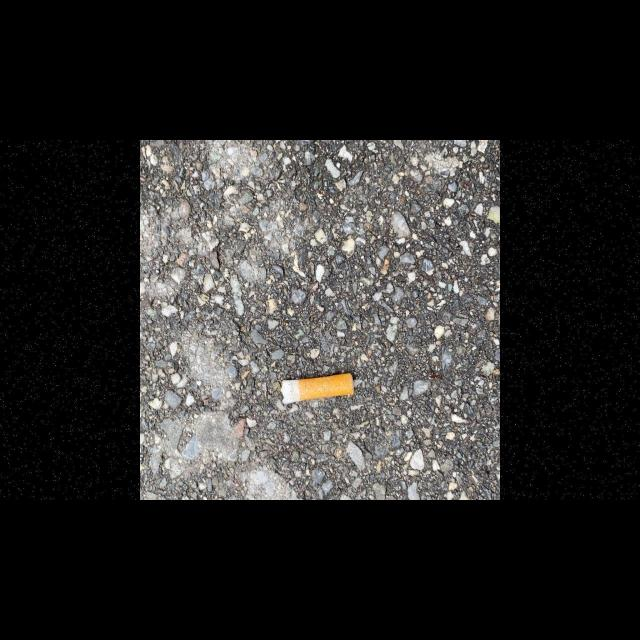cigarette: (280, 372, 356, 404)
